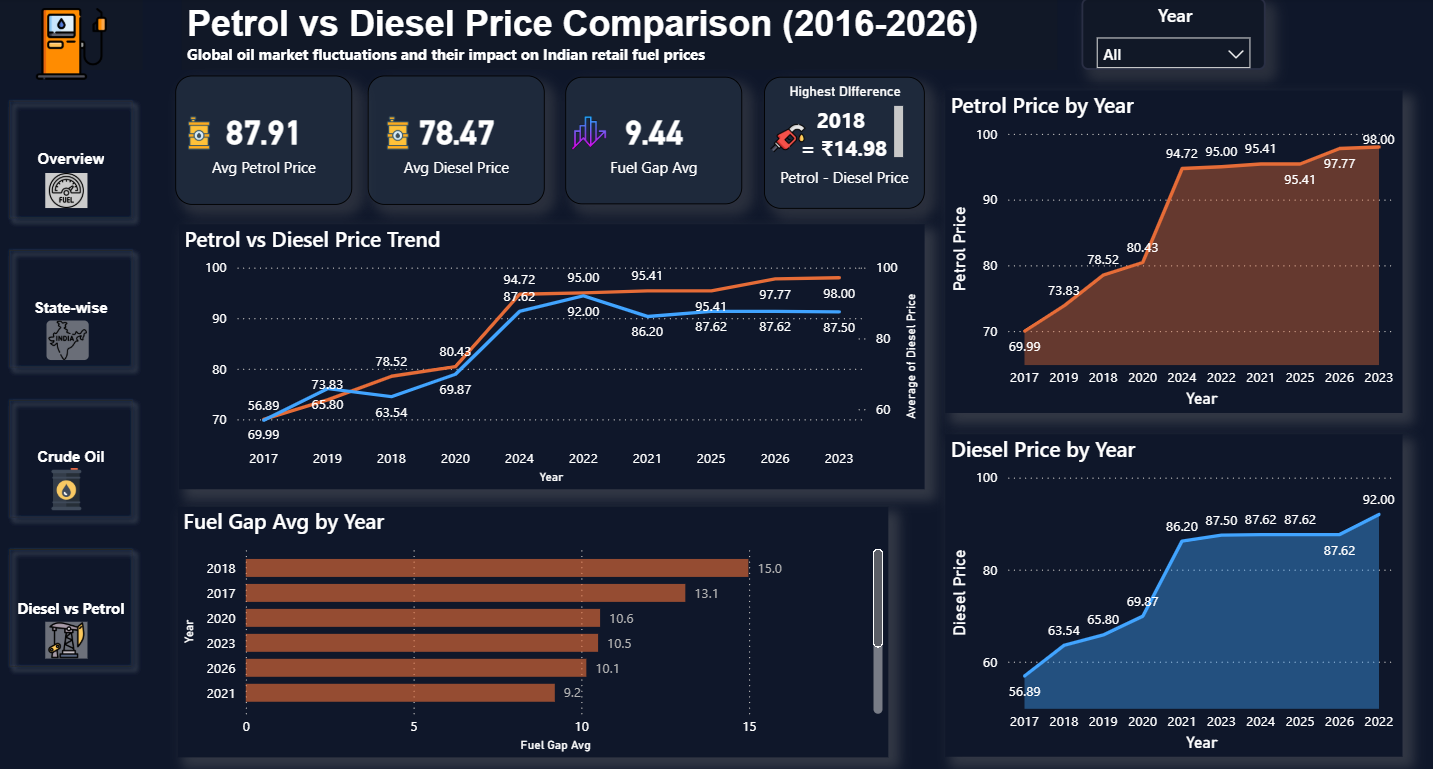

This screenshot's page, from the dashboard's own definition file:
{"tool":"powerbi","page":{"name":"Diesel vs Petrol","canvas":[1280,720],"ordinal":3},"visuals":[{"type":"shape","box":[0,0,127.9,64],"z":0},{"type":"textbox","box":[162.5,0,780,63.8],"z":1000},{"type":"pageNavigator","box":[0,82.5,128.8,523.8],"z":2000},{"type":"image","box":[0,8.8,128.8,63.8],"z":3000},{"type":"card","fields":{"Values":["1  Yearly Trends.Fuel Gap Avg"]},"box":[503.8,69.8,157.5,113.8],"z":4000},{"type":"card","fields":{"Values":["1  Yearly Trends.Avg Diesel Price"]},"box":[328.8,68.5,157.5,115],"z":5000},{"type":"card","fields":{"Values":["1  Yearly Trends.Avg Petrol Price"]},"box":[157.5,68.5,157.5,115],"z":6000},{"type":"card","title":"Highest DIfference","fields":{"Values":["1  Yearly Trends.Highest Petrol Price"]},"box":[681.4,69.8,143,117.4],"z":7000},{"type":"image","box":[340,104.8,31.2,31.2],"z":8000},{"type":"image","box":[41.2,418.8,37.5,37.5],"z":9000},{"type":"image","box":[42.5,287.5,37.5,35],"z":10000},{"type":"image","box":[41.2,555,37.5,32.5],"z":11000},{"type":"image","box":[162.5,104.8,31.2,31.2],"z":12000},{"type":"image","box":[41.2,156.2,37.5,31.2],"z":13000},{"type":"image","box":[685,108.8,36.2,31.2],"z":14000},{"type":"image","box":[506.7,104.5,37.2,31.2],"z":15000},{"type":"slicer","title":"Year","fields":{"Values":["1  Yearly Trends.Year"]},"box":[963.8,0,163.8,63.8],"z":16000},{"type":"textbox","box":[0,688,1280,32.4],"z":17000},{"type":"lineChart","title":"Petrol vs Diesel Price Trend","fields":{"Category":["1  Yearly Trends.Year"],"Y":["Avg(1  Yearly Trends.Petrol Price)"],"Y2":["Avg(1  Yearly Trends.Diesel Price )"]},"box":[160,201.2,663.8,236.2],"z":18000},{"type":"clusteredBarChart","fields":{"Y":["1  Yearly Trends.Fuel Gap Avg"],"Category":["1  Yearly Trends.Year"]},"box":[159.7,452.7,632.8,223.3],"z":19000},{"type":"areaChart","fields":{"Category":["1  Yearly Trends.Year"],"Y":["Avg(1  Yearly Trends.Petrol Price)"]},"box":[842.5,82.5,407.5,287.5],"z":20000},{"type":"areaChart","fields":{"Category":["1  Yearly Trends.Year"],"Y":["Avg(1  Yearly Trends.Diesel Price )"]},"box":[842.5,388.8,407.5,287.5],"z":21000},{"type":"textbox","box":[703.8,91.2,106.2,57.5],"z":22000}]}

Visuals, with their boxes on the page's 1280x720 design canvas (x1, y1, x2, y2). These are canvas units, not pixel positions in the 1433x769 screenshot, which may show the page scaled, cropped or inside an application window:
shape: 0,0,128,64
textbox: 162,0,942,64
pageNavigator: 0,82,129,606
image: 0,9,129,73
card - 1  Yearly Trends.Fuel Gap Avg: 504,70,661,184
card - 1  Yearly Trends.Avg Diesel Price: 329,68,486,184
card - 1  Yearly Trends.Avg Petrol Price: 158,68,315,184
"Highest DIfference" card: 681,70,824,187
image: 340,105,371,136
image: 41,419,79,456
image: 42,288,80,322
image: 41,555,79,588
image: 162,105,194,136
image: 41,156,79,187
image: 685,109,721,140
image: 507,104,544,136
"Year" slicer: 964,0,1128,64
textbox: 0,688,1280,720
"Petrol vs Diesel Price Trend" lineChart: 160,201,824,437
clusteredBarChart - 1  Yearly Trends.Fuel Gap Avg x 1  Yearly Trends.Year: 160,453,792,676
areaChart - 1  Yearly Trends.Year x Avg(1  Yearly Trends.Petrol Price): 842,82,1250,370
areaChart - 1  Yearly Trends.Year x Avg(1  Yearly Trends.Diesel Price ): 842,389,1250,676
textbox: 704,91,810,149
